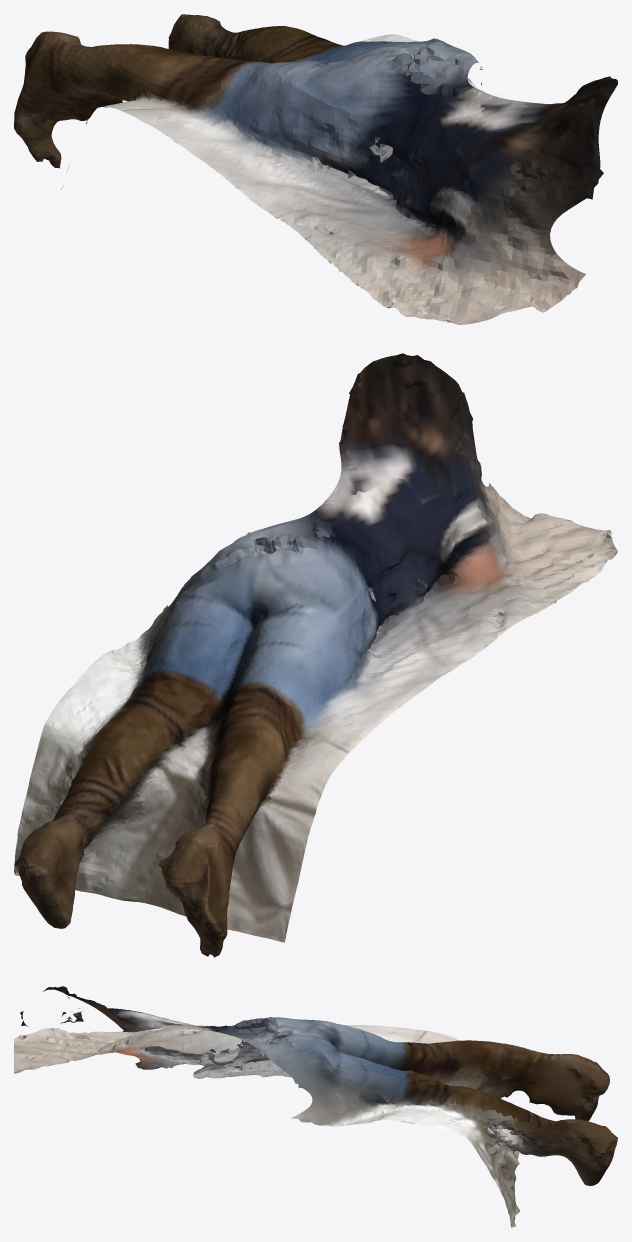
3 renders of one model, top to bottom at view 1: azimuth 30°, elevation 25°; view 2: azimuth 150°, elevation 25°; view 3: azimuth 270°, elevation 25°, orthographic. The views are drawn at different scales.
Bounding box in the file's own units: 0.6107 × 0.6405 × 1.63.
Materials: 1 (1 with a texture image).
